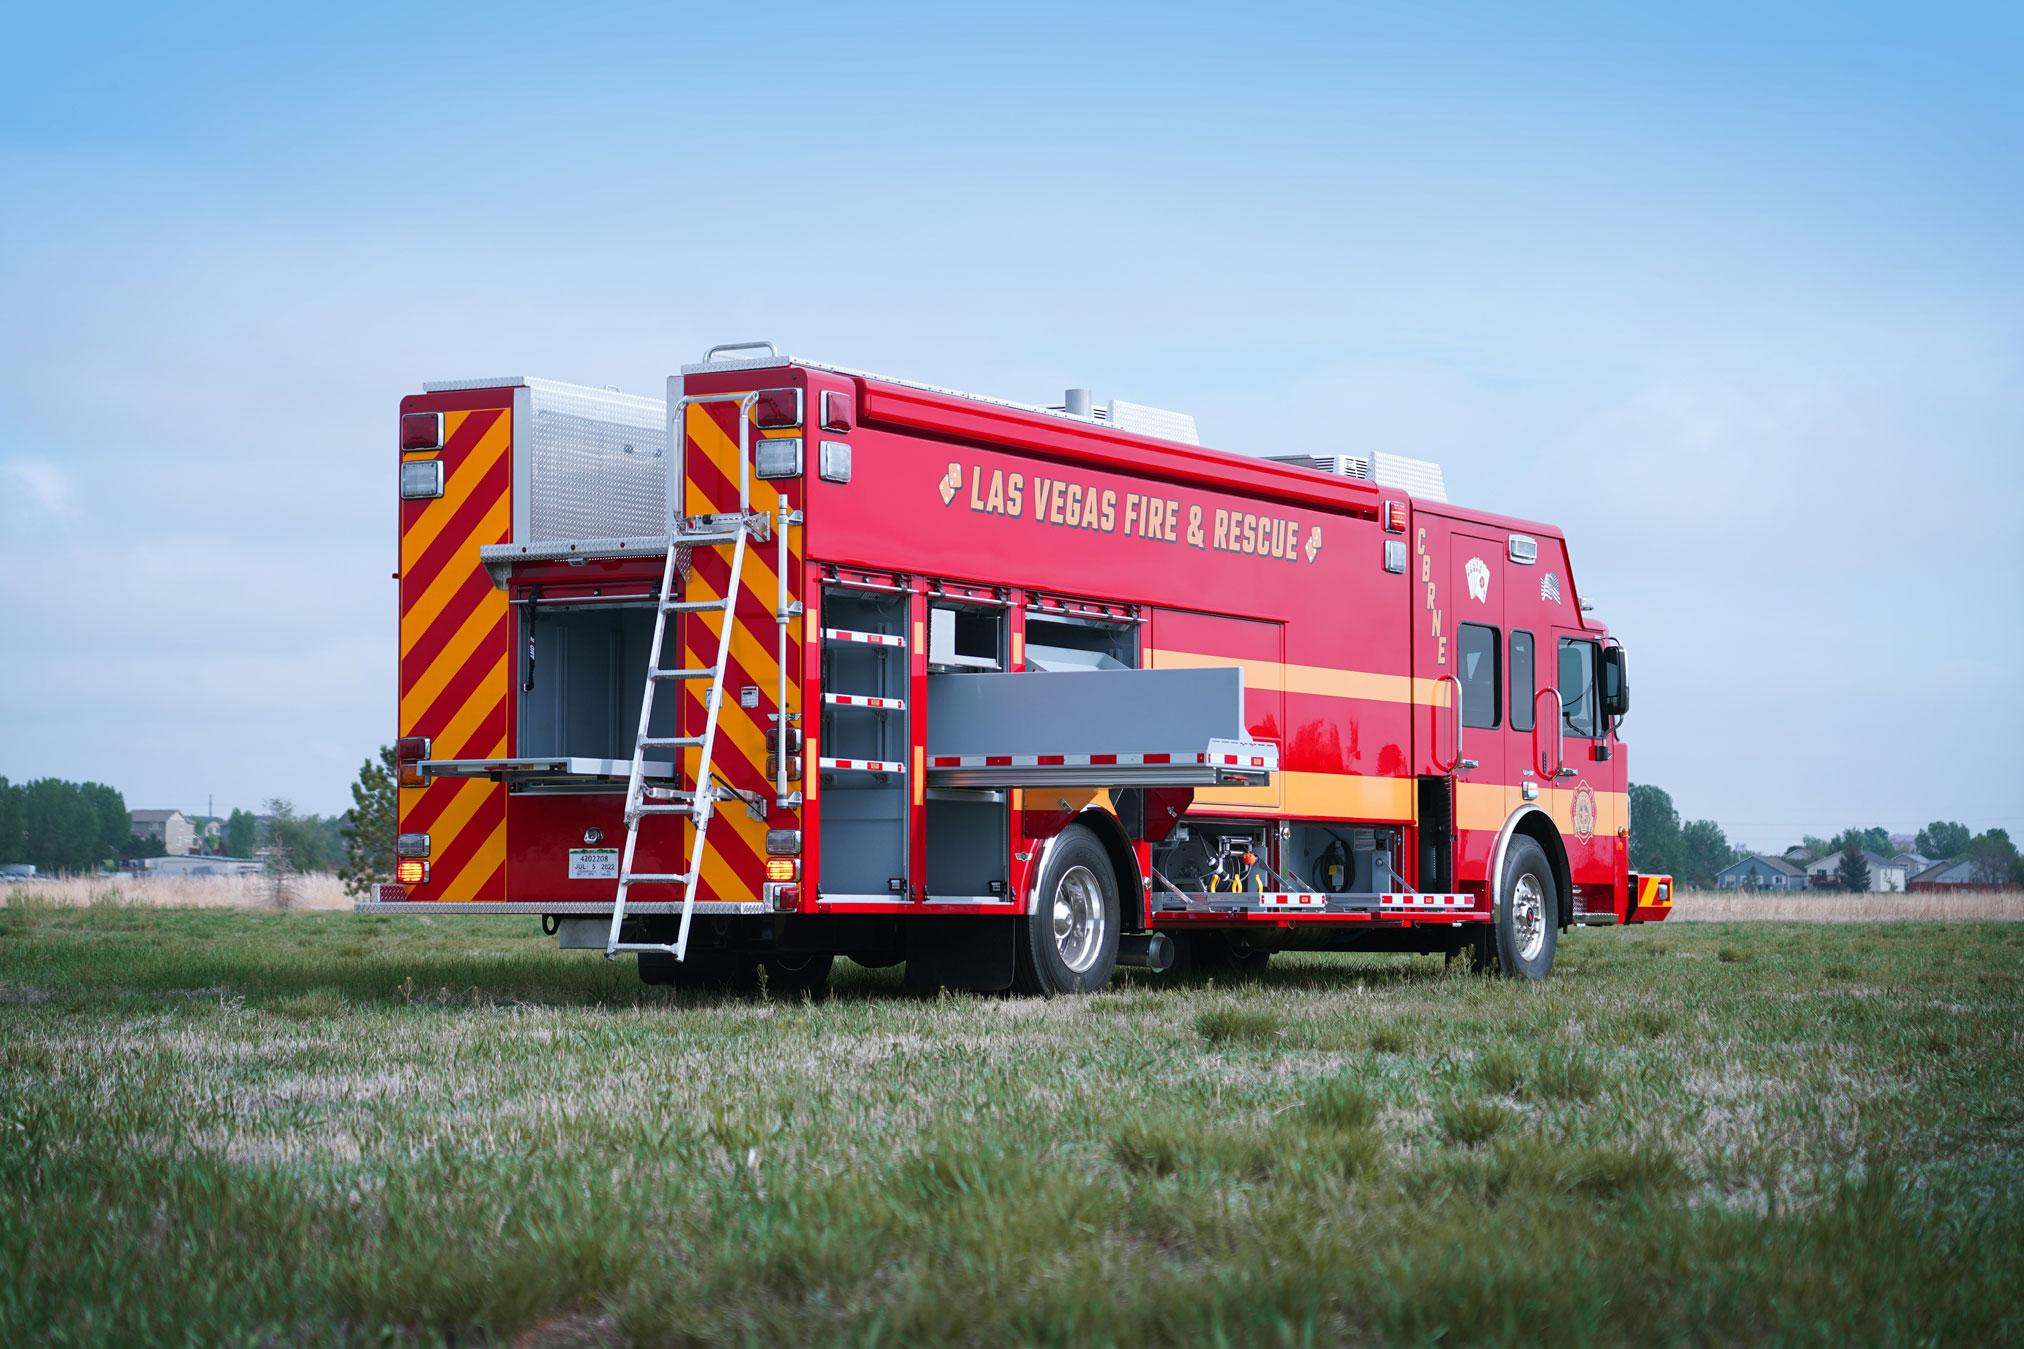truck: (357, 340, 1673, 992)
